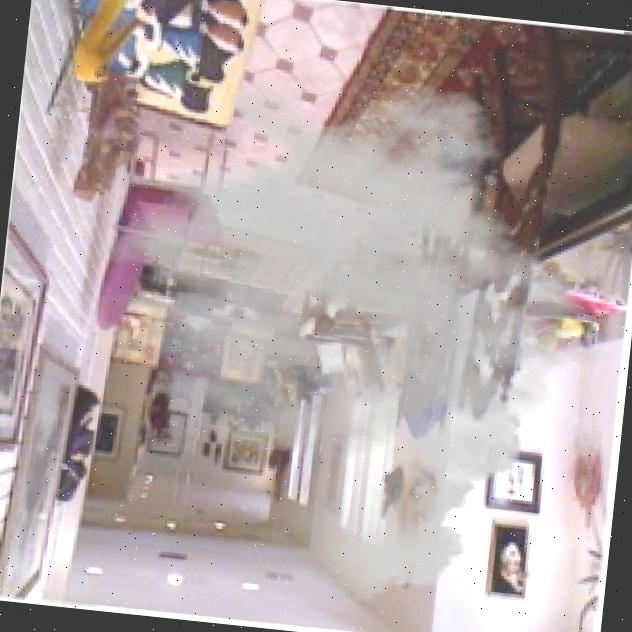smoke: (27, 46, 628, 632)
